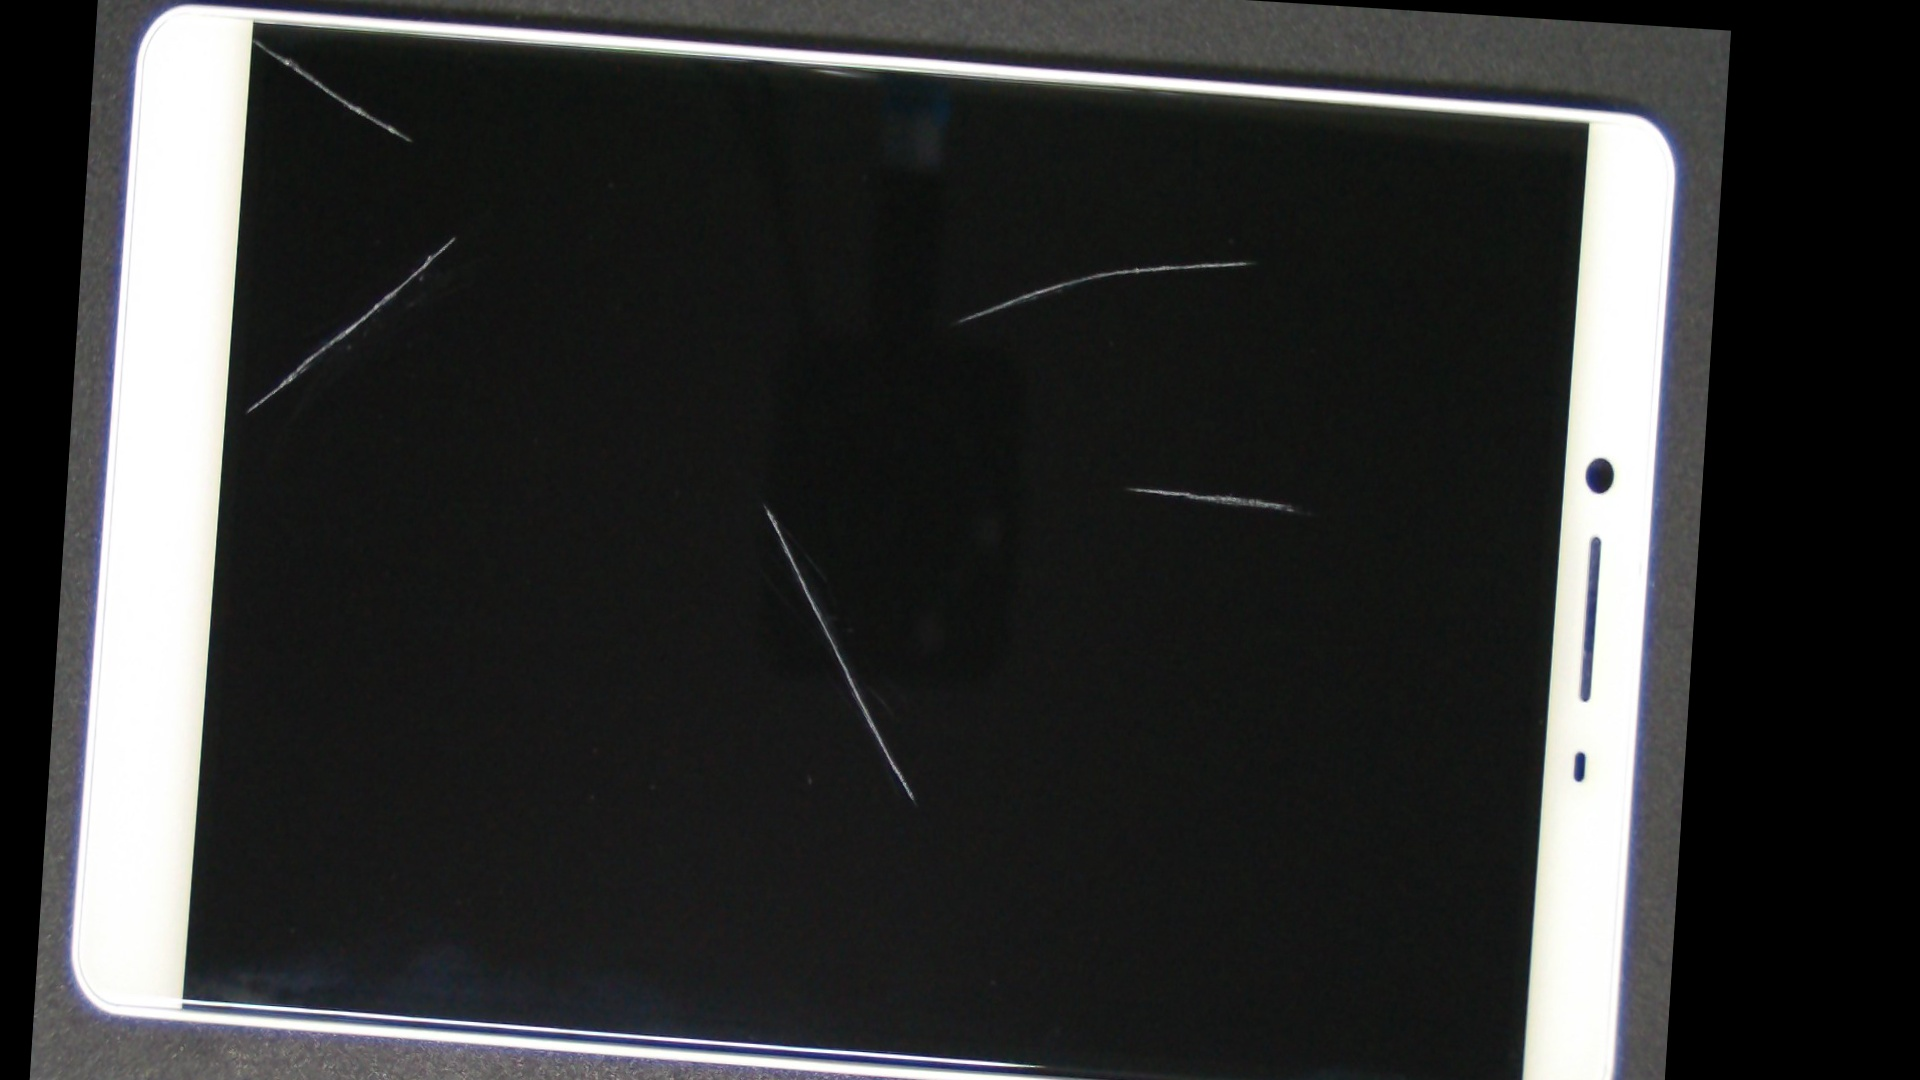oil: (585, 207, 1676, 767), (398, 214, 1125, 787), (655, 94, 1724, 421), (261, 82, 647, 392), (171, 0, 336, 94)
